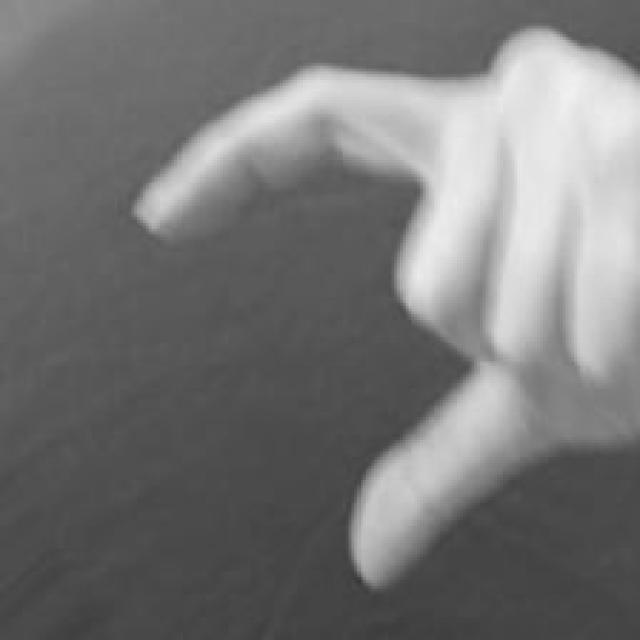C: (134, 24, 640, 594)
